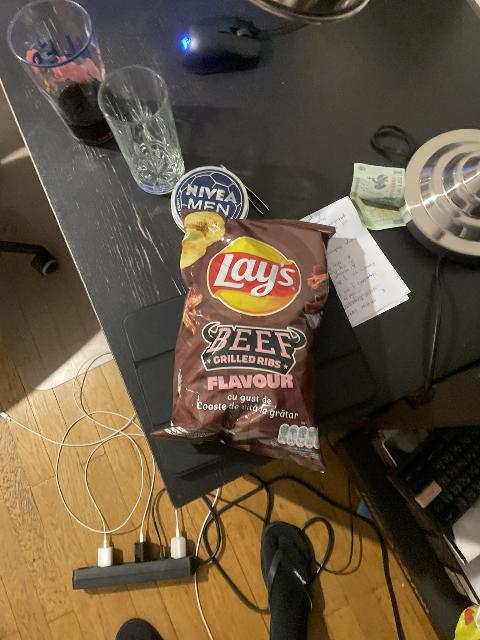Lays Beef Grilled Ribs 125g: (153, 210, 333, 469)
